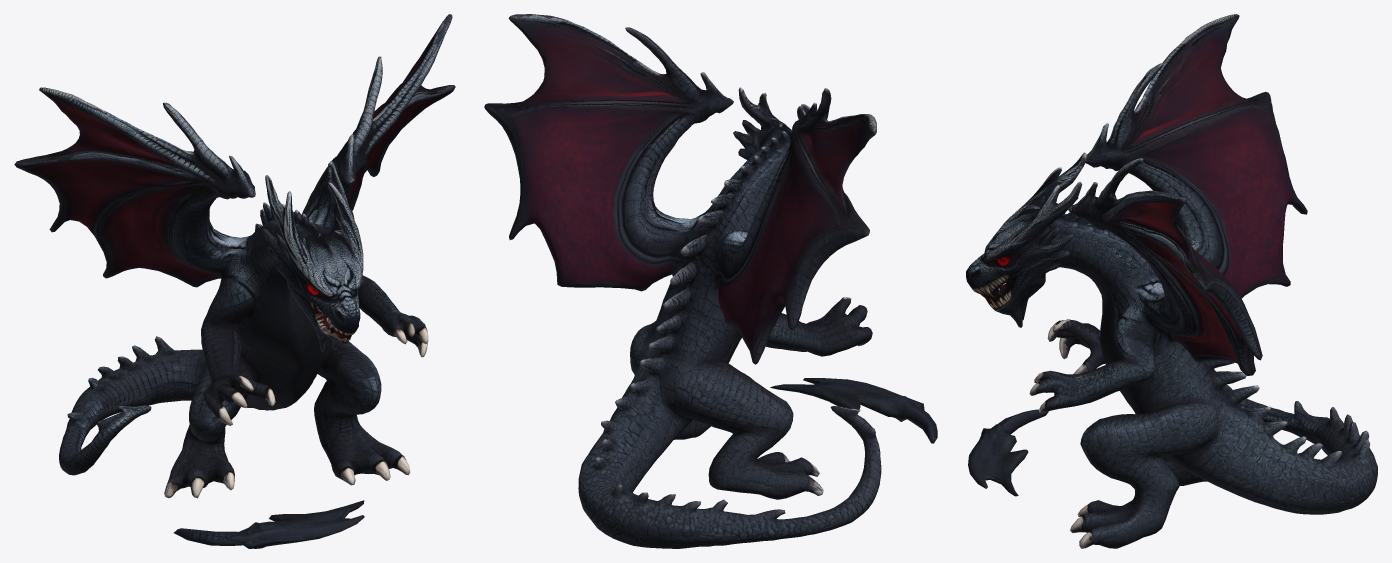
Rendered from red-eyes.glb.
The picture shows the model from 3 angles, left to right: view 1: azimuth 30°, elevation 25°; view 2: azimuth 150°, elevation 25°; view 3: azimuth 270°, elevation 25°; orthographic projection. The views are drawn at different scales.
Size of the model in its own units: 1.9 by 1.8 by 1.68.
1 material, 1 textured.
